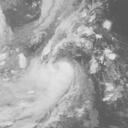cyclone: (34, 59, 75, 102)
